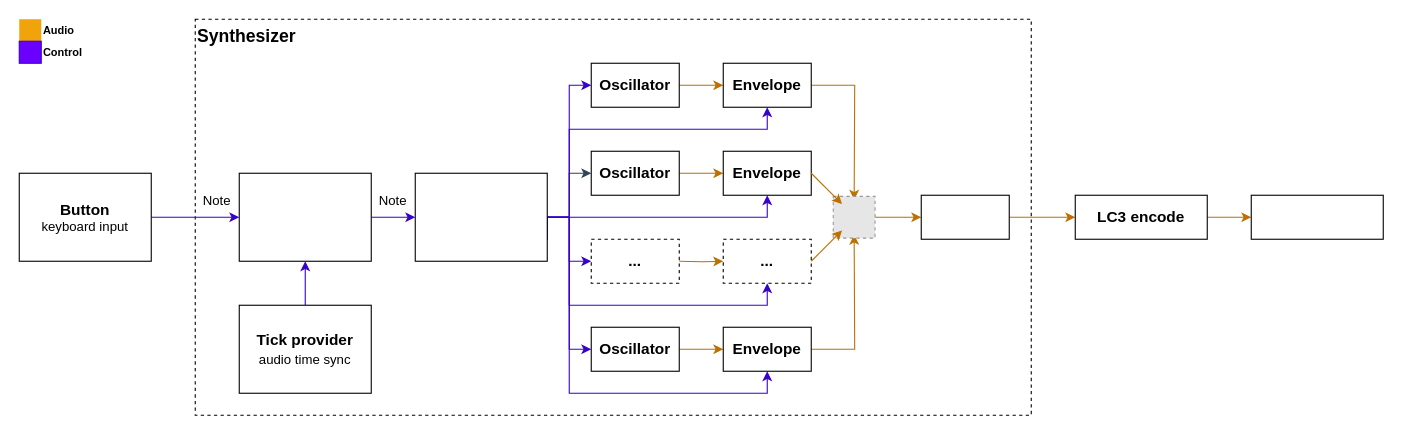
Some shapes in this 1403 by 435 pixel diagram are drawn without their labels. Grey dashed boxes stand in for pictures. The centre of each missing label's shape, as x and y in pixels:
"Arpeggio input transform" belongs at point 304,216.
"BLE radio" belongs at point 1316,216.
"Effect echo" belongs at point 964,216.
"keys assign assign note to an oscillator" belongs at point 480,216.
